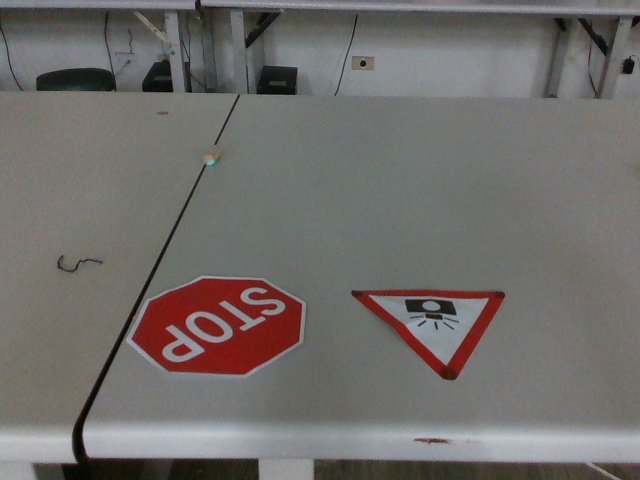camera: (347, 286, 507, 383)
stop: (122, 266, 307, 381)
